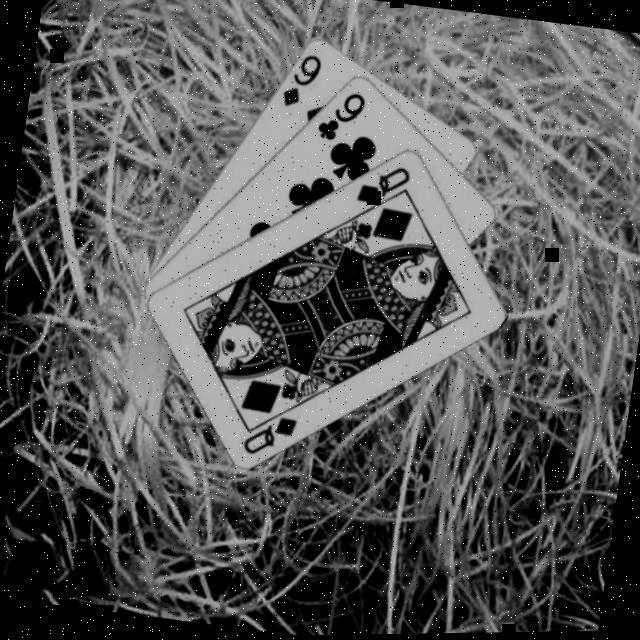9C: (311, 82, 368, 146)
9D: (276, 46, 325, 111)
QD: (236, 406, 298, 462), (351, 157, 414, 210)
